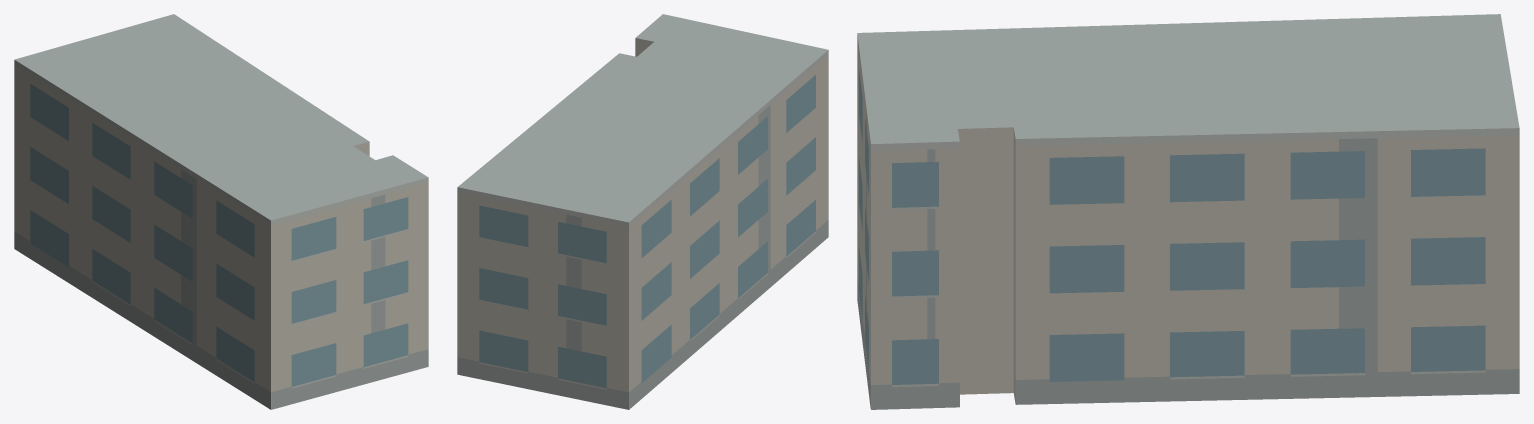
File: survey-upis-32633948.glb
3 renders of one model, left to right at view 1: azimuth 30°, elevation 25°; view 2: azimuth 150°, elevation 25°; view 3: azimuth 270°, elevation 25°, orthographic. The views are drawn at different scales.
Parts seen in each view (by area): view 1: survey-upis-32633948.tmp; view 2: survey-upis-32633948.tmp; view 3: survey-upis-32633948.tmp.
Part boxes in pixels (<box>): survey-upis-32633948.tmp: <box>14,14,428,409</box>; survey-upis-32633948.tmp: <box>457,14,828,409</box>; survey-upis-32633948.tmp: <box>857,14,1519,409</box>.
Size of the model in its own units: 9.62 by 9.15 by 20.68.
